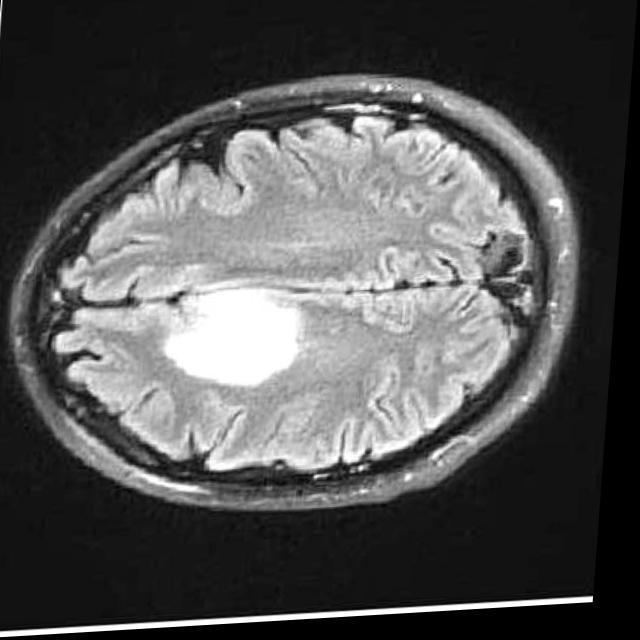Tumor: (171, 296, 305, 391)
